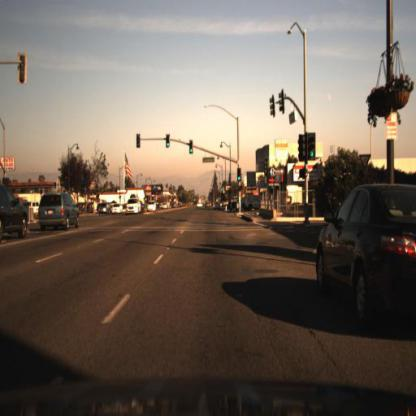car: (313, 183, 416, 332), (35, 188, 82, 237), (1, 185, 31, 245), (35, 192, 83, 229), (246, 194, 263, 214), (125, 197, 143, 215), (125, 197, 140, 218), (145, 198, 158, 213), (111, 202, 123, 218)
trafficLight: (136, 133, 143, 151)
trafficLight-Green: (307, 132, 318, 165), (238, 164, 246, 182), (309, 147, 317, 165), (164, 134, 171, 153), (188, 139, 196, 155), (187, 133, 194, 151), (165, 134, 172, 149), (237, 169, 243, 182)
